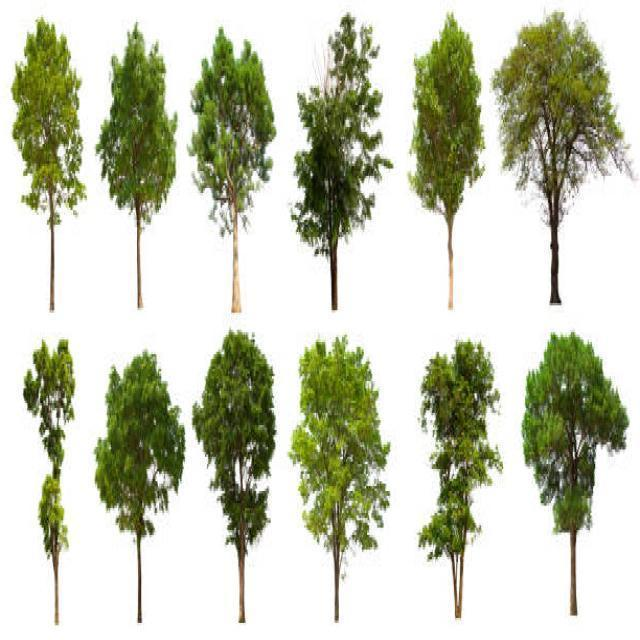tree: (496, 5, 628, 303), (516, 322, 630, 618), (286, 324, 392, 620), (288, 9, 392, 310), (94, 342, 186, 618), (188, 18, 276, 306), (6, 12, 86, 308), (417, 334, 501, 612), (96, 18, 176, 306), (197, 333, 276, 615), (410, 12, 482, 300), (20, 328, 72, 622)
